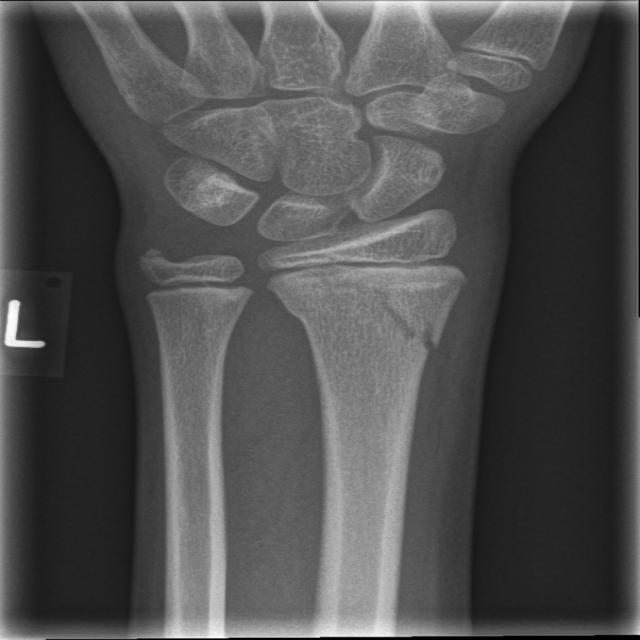radius fracture: (354, 267, 494, 383)
